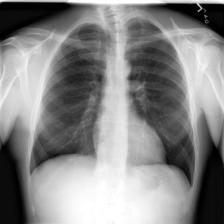normal: (27, 12, 197, 189)
